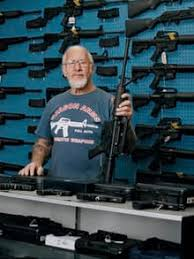rifle: (88, 40, 132, 179), (132, 32, 194, 62), (129, 88, 192, 116), (42, 29, 124, 50), (133, 120, 194, 146), (131, 144, 193, 169), (131, 62, 191, 87), (1, 87, 43, 104), (1, 62, 42, 79), (1, 135, 35, 154), (1, 111, 42, 126), (1, 9, 39, 25), (1, 36, 41, 50)
